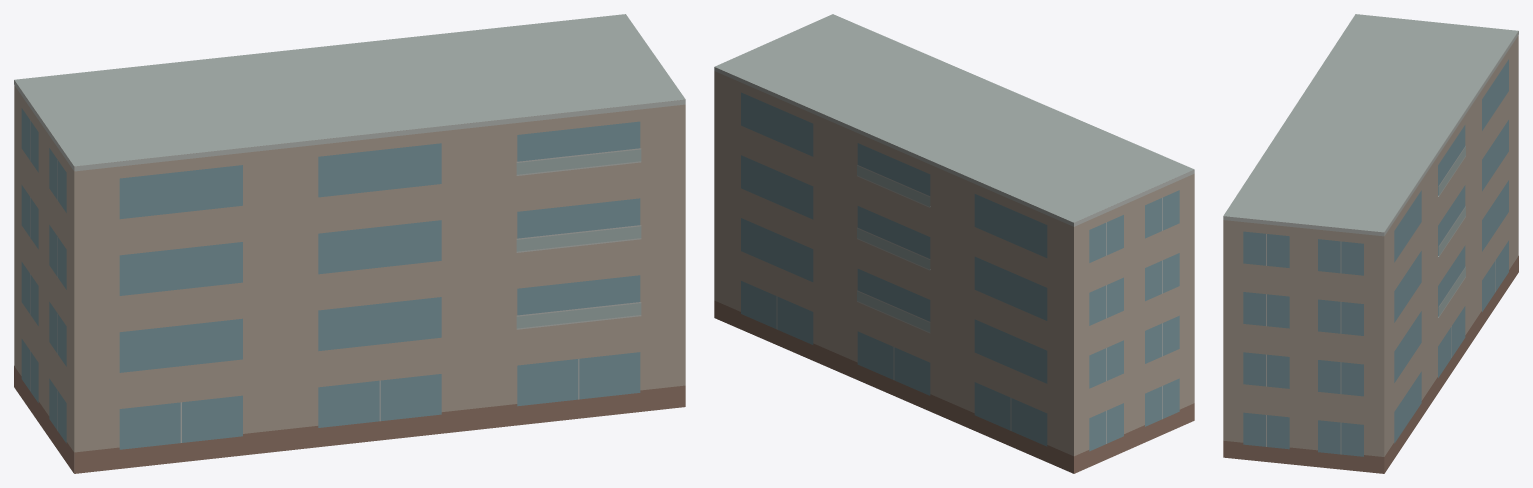
File: survey-upis-33044591.glb
3 renders of one model, left to right at view 1: azimuth 30°, elevation 25°; view 2: azimuth 150°, elevation 25°; view 3: azimuth 270°, elevation 25°, orthographic. The views are drawn at different scales.
Visible parts, largest first — view 1: survey-upis-33044591.tmp; view 2: survey-upis-33044591.tmp; view 3: survey-upis-33044591.tmp.
Boxes of the visible parts, x1,y1,x2,y2 form: survey-upis-33044591.tmp: [14, 14, 685, 473]; survey-upis-33044591.tmp: [714, 14, 1194, 473]; survey-upis-33044591.tmp: [1223, 14, 1518, 473].
Bounding box in the file's own units: 29.11 × 15 × 16.65.
